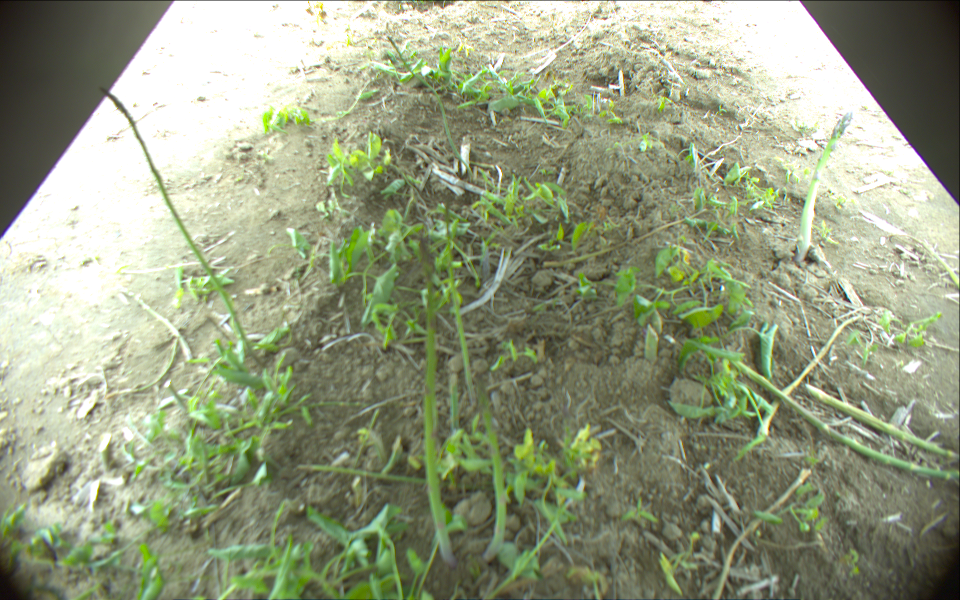aspa: (101, 85, 257, 359), (725, 354, 958, 485), (444, 244, 507, 564), (386, 35, 478, 182), (425, 247, 463, 563), (808, 382, 958, 460), (795, 113, 855, 262), (121, 288, 193, 363)
